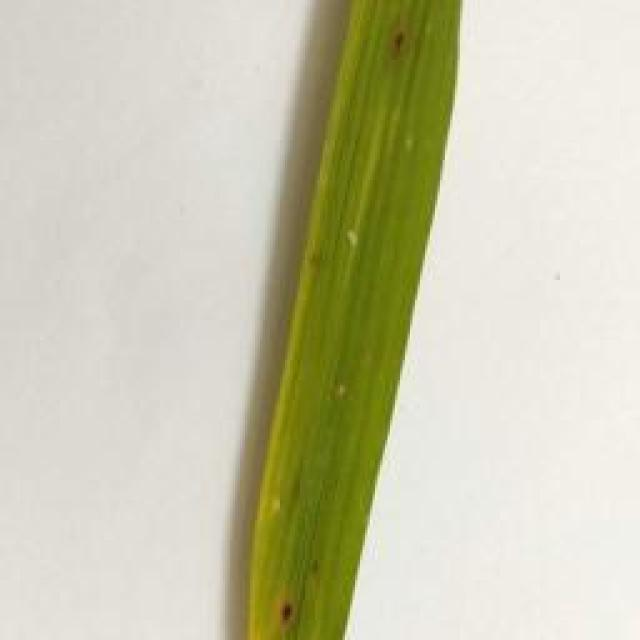Bacterial_Blight: (329, 212, 376, 268), (261, 477, 297, 533), (334, 378, 364, 411)
Brown_Spot: (272, 578, 298, 637), (387, 13, 406, 65)
